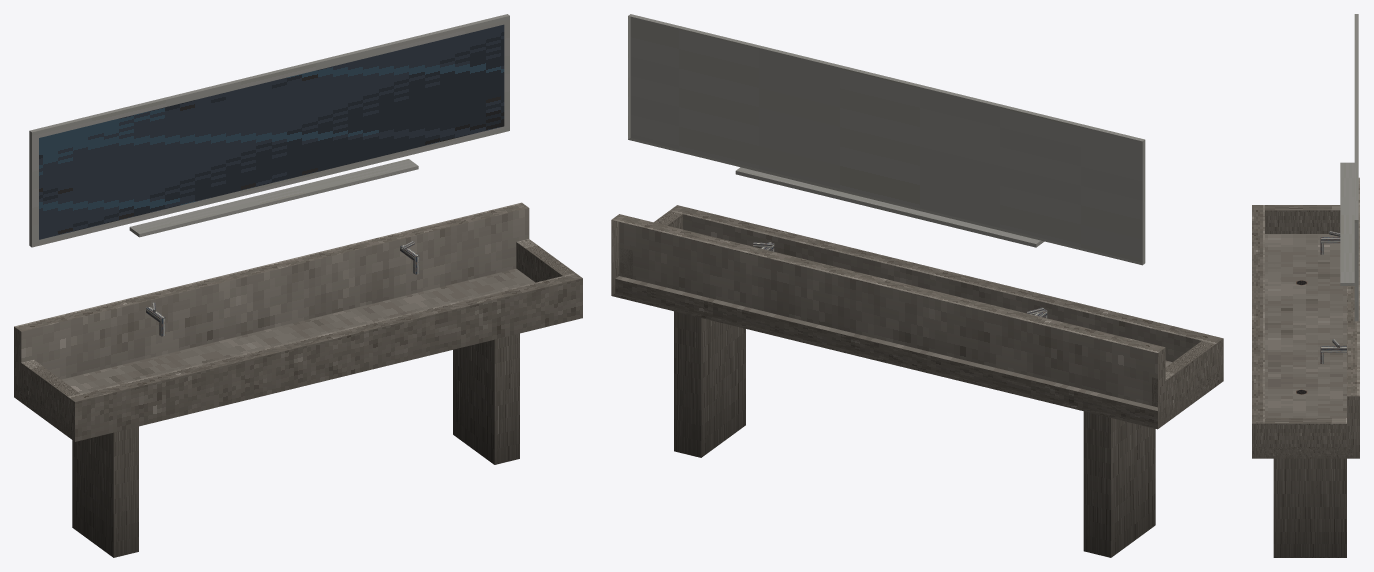
The model's file is prop_hallsink-24-3.glb.
3 renders of one model, left to right at view 1: azimuth 30°, elevation 25°; view 2: azimuth 150°, elevation 25°; view 3: azimuth 270°, elevation 25°, orthographic. The views are drawn at different scales.
Parts seen in each view (by area): view 1: prop_hallsink-24-3; view 2: prop_hallsink-24-3; view 3: prop_hallsink-24-3.
Boxes of the visible parts, x1,y1,x2,y2 form: prop_hallsink-24-3: (14, 14, 582, 557); prop_hallsink-24-3: (611, 14, 1223, 557); prop_hallsink-24-3: (1252, 14, 1359, 557).
Size of the model in its own units: 2.4 by 1.81 by 0.5.
4 materials, 4 textured.
